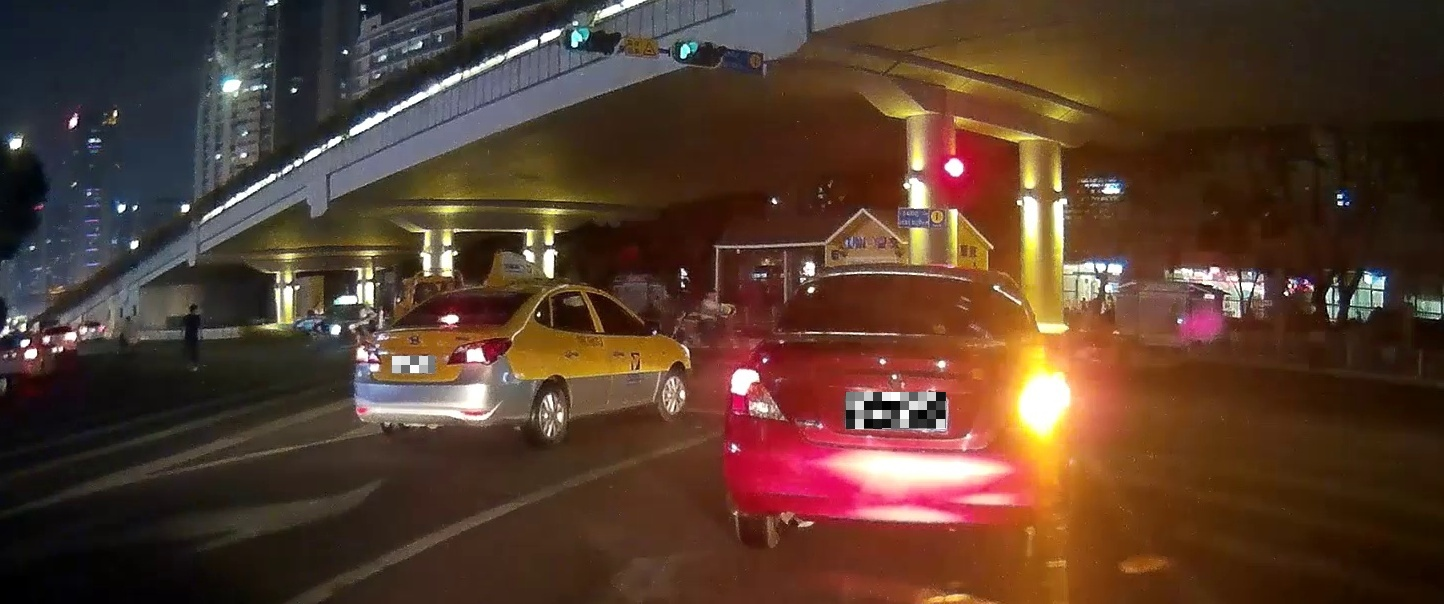L_light: (727, 367, 787, 421), (355, 339, 382, 363)
R_light: (1016, 365, 1066, 430), (447, 336, 514, 365)
T_light: (878, 273, 922, 284), (439, 316, 458, 322)
night-brake: (354, 281, 541, 445)
night-right: (719, 265, 1068, 549)
plate_1: (392, 356, 435, 373)
plate_2: (846, 392, 946, 429)
